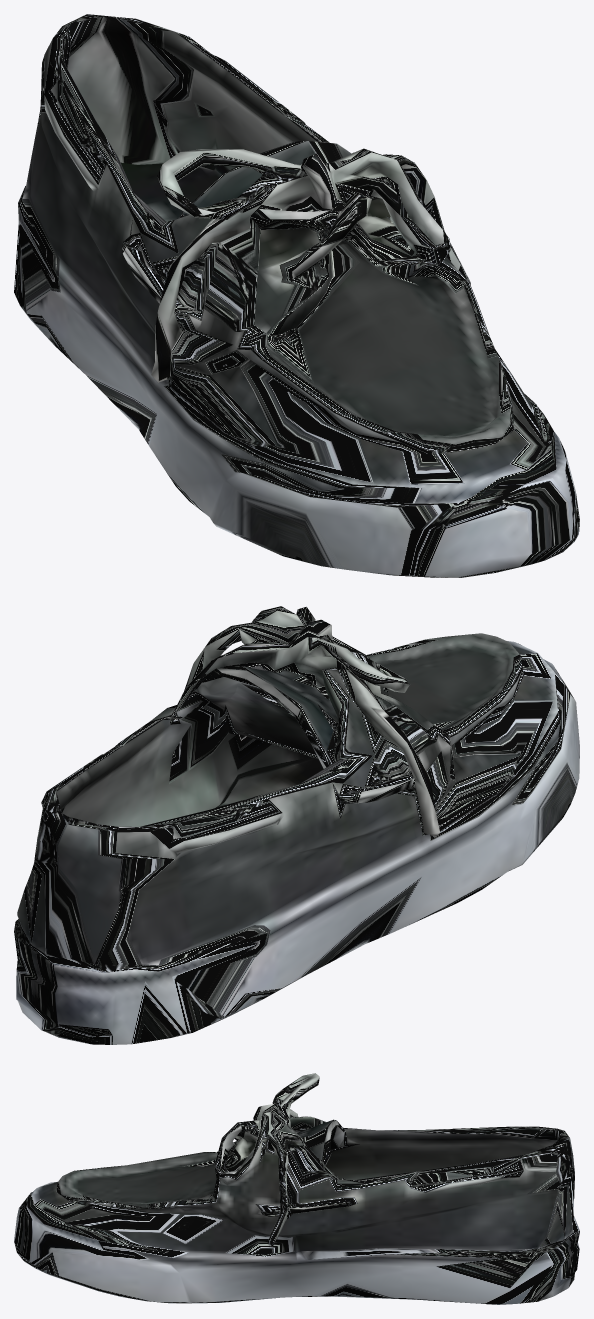
File: gso_womens_bluefish_2eye_boat_shoe_in_linen_oat.glb
3 renders of one model, top to bottom at view 1: azimuth 30°, elevation 25°; view 2: azimuth 150°, elevation 25°; view 3: azimuth 270°, elevation 25°, orthographic. The views are drawn at different scales.
Parts seen in each view (by area): view 1: z-up-to-y-up; view 2: z-up-to-y-up; view 3: z-up-to-y-up.
Boxes of the visible parts, left/top/right/bottom form: z-up-to-y-up: left=14, top=14, right=579, bottom=577; z-up-to-y-up: left=14, top=606, right=579, bottom=1044; z-up-to-y-up: left=14, top=1073, right=579, bottom=1304.
Size of the model in its own units: 0.0938 by 0.0821 by 0.2433.
1 material, 1 textured.
